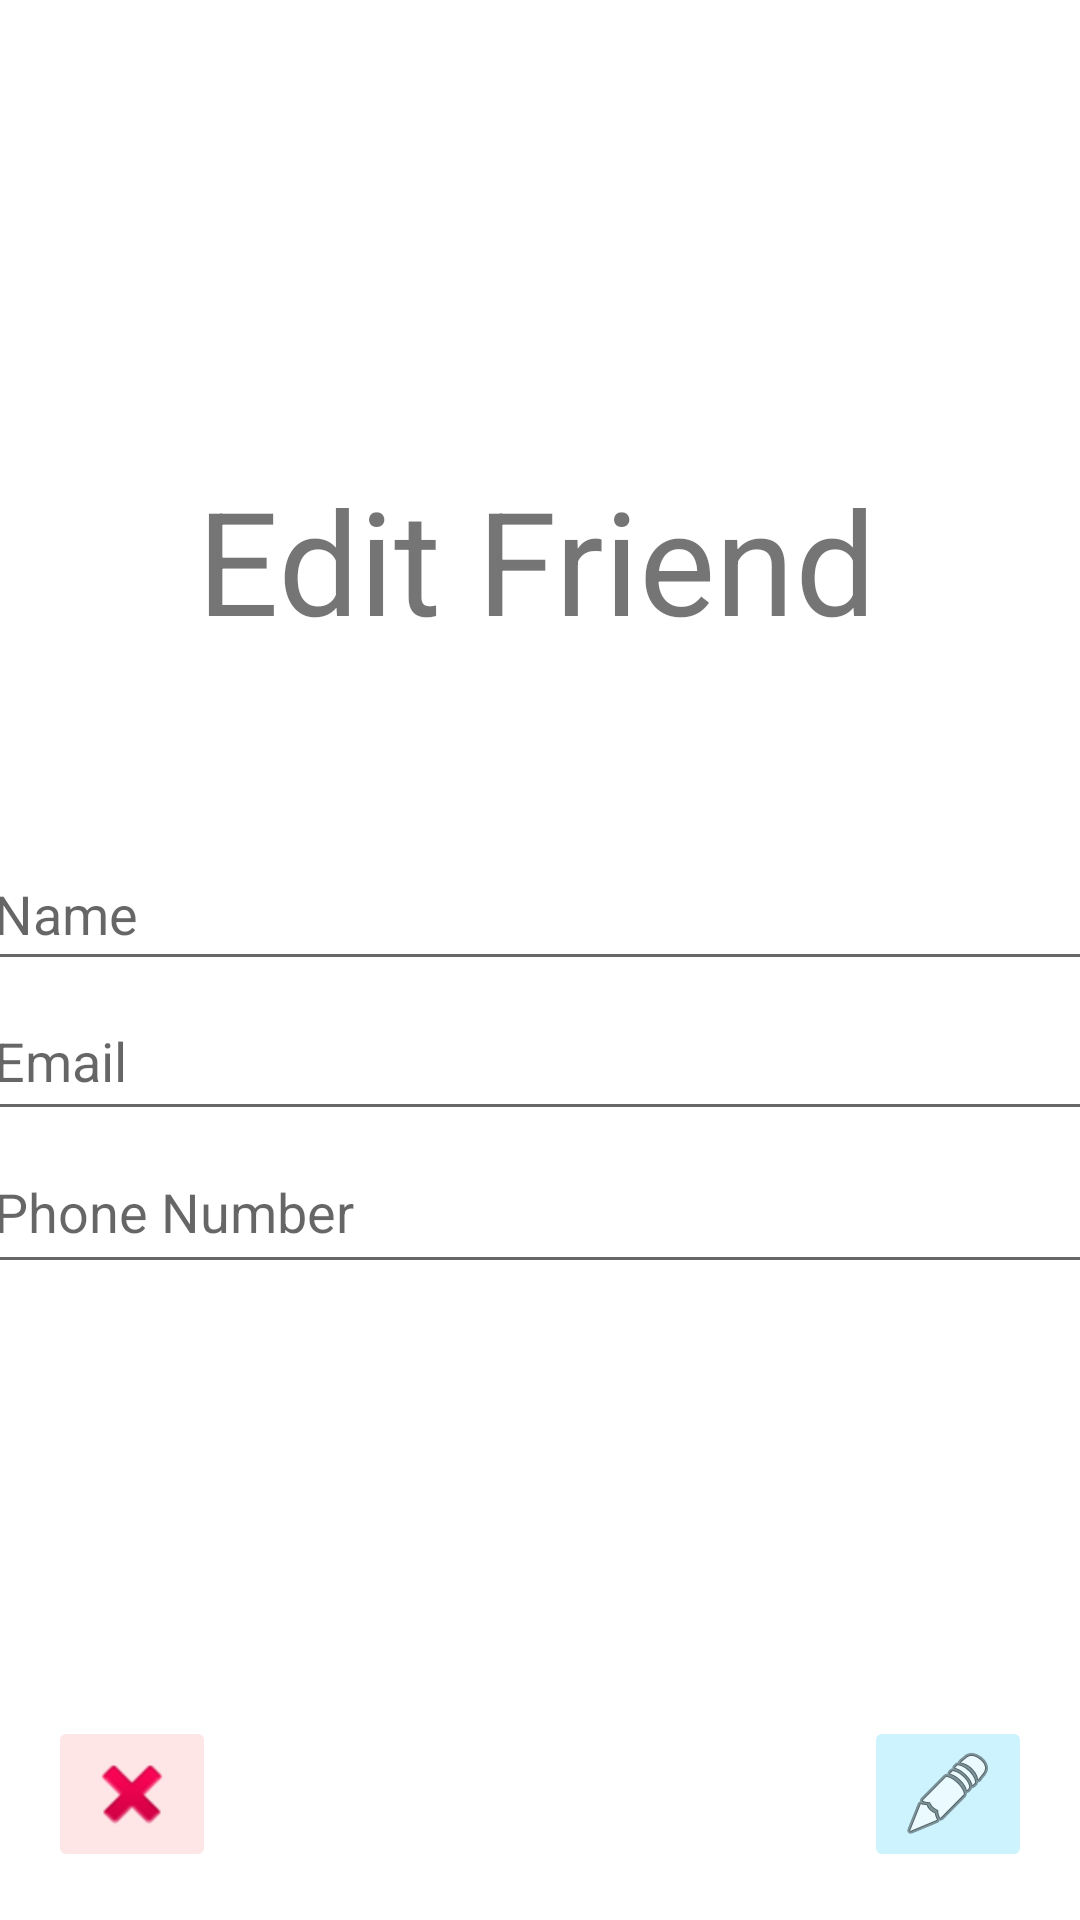

Icon click points for this 1080w x 1920h phone screenshot, format (x,y):
Delete: (132,1794)
